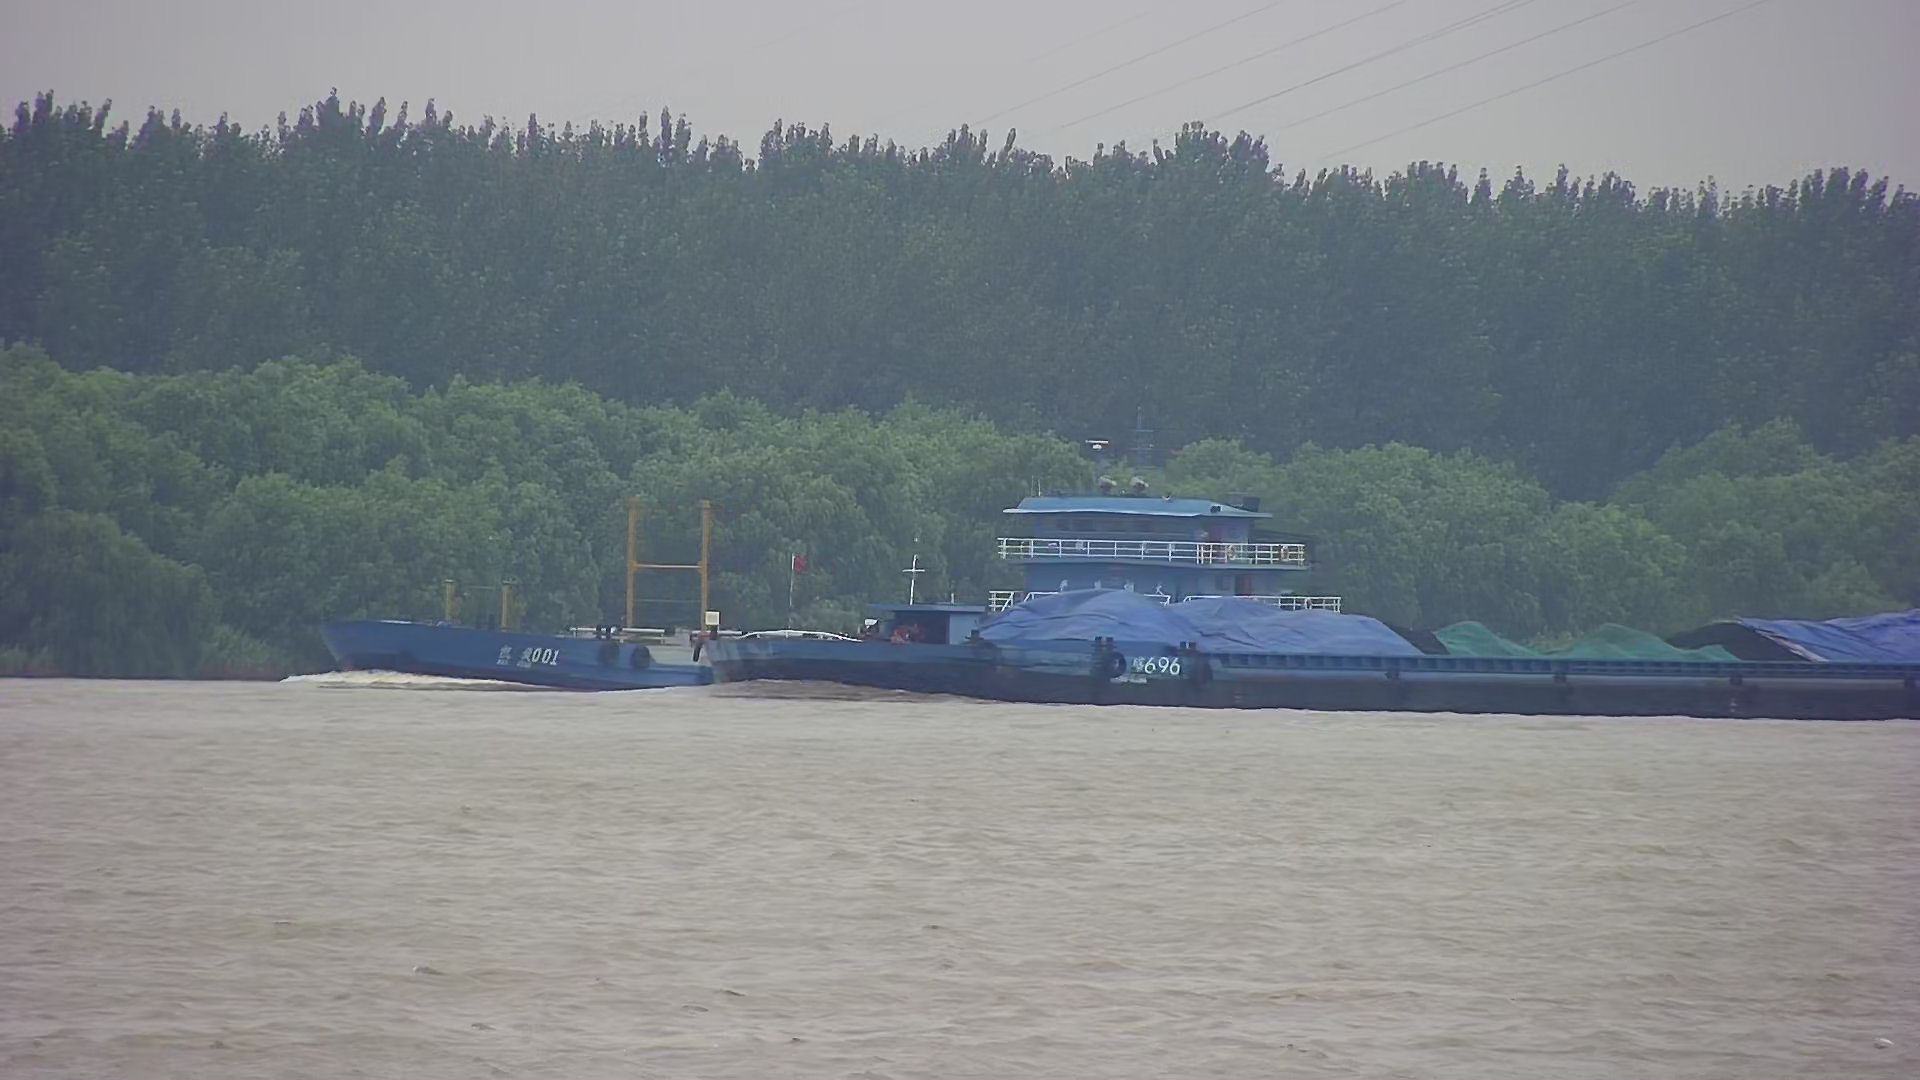ship: (285, 475, 1390, 709), (699, 533, 1919, 733)
